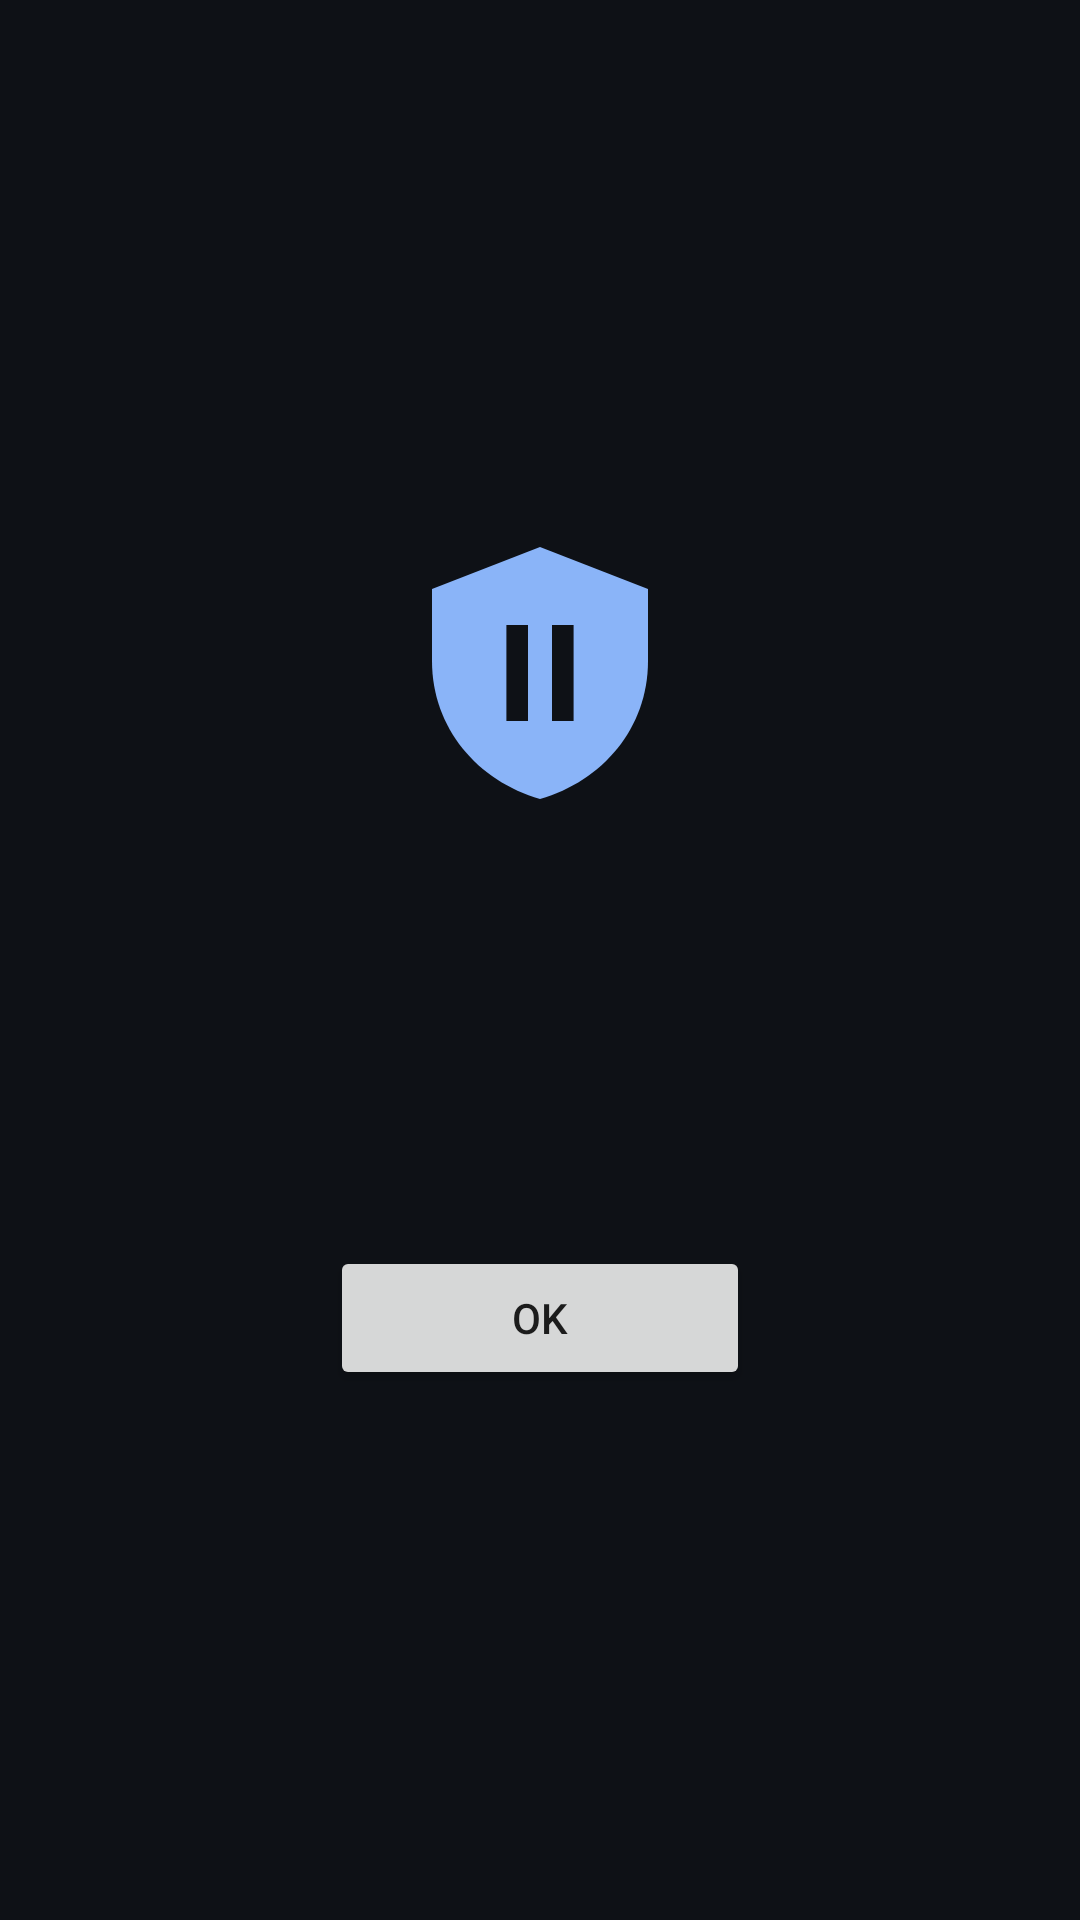

Where to tap for icons on this 1080px×1920px app screen, as [x,y]:
shield: [540,673]
